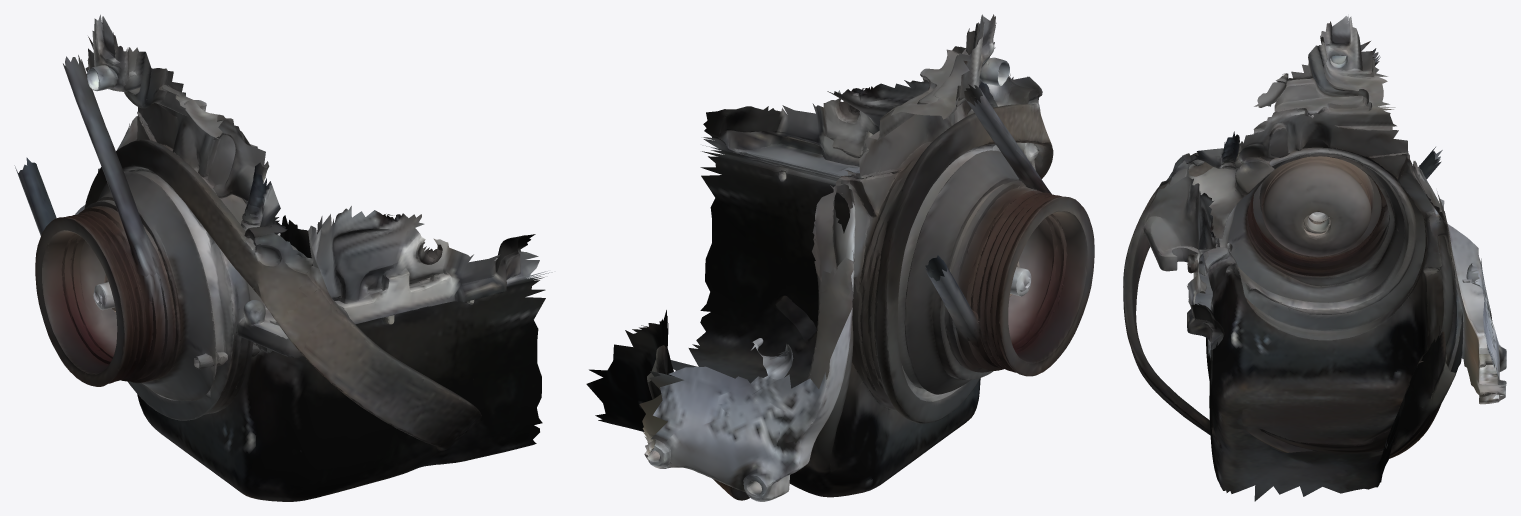
File: motor_12_piezas.glb
3 views of the same model, side by side, from view 1: azimuth 30°, elevation 25°; view 2: azimuth 150°, elevation 25°; view 3: azimuth 270°, elevation 25° (orthographic). The views are drawn at different scales.
Parts seen in each view (by area): view 1: pieza_02, pieza_08, pieza_07, pieza_11, pieza_05, pieza_12, pieza_03, pieza_10, pieza_06, pieza_09, pieza_01; view 2: pieza_04, pieza_09, pieza_07, pieza_02, pieza_06, pieza_12, pieza_10, pieza_05, pieza_01, pieza_03, pieza_11, pieza_08; view 3: pieza_03, pieza_12, pieza_01, pieza_04, pieza_06, pieza_09, pieza_02, pieza_05, pieza_08, pieza_11, pieza_10, pieza_07.
Part boxes in pixels (<box>): pieza_02: <box>303,329,542,499</box>; pieza_08: <box>228,218,433,430</box>; pieza_07: <box>355,210,552,400</box>; pieza_11: <box>172,125,361,308</box>; pieza_05: <box>86,278,282,413</box>; pieza_12: <box>63,14,234,186</box>; pieza_03: <box>128,381,309,501</box>; pieza_10: <box>43,167,186,312</box>; pieza_06: <box>34,215,117,383</box>; pieza_09: <box>14,107,149,232</box>; pieza_01: <box>276,215,312,265</box>; pieza_04: <box>639,310,881,501</box>; pieza_09: <box>779,166,964,399</box>; pieza_07: <box>700,83,906,233</box>; pieza_02: <box>670,207,818,388</box>; pieza_06: <box>871,254,1059,423</box>; pieza_12: <box>859,14,1022,203</box>; pieza_10: <box>922,140,1092,290</box>; pieza_05: <box>1008,226,1094,361</box>; pieza_01: <box>586,319,749,500</box>; pieza_03: <box>869,378,980,490</box>; pieza_11: <box>897,74,1047,160</box>; pieza_08: <box>901,88,1053,178</box>; pieza_03: <box>1212,278,1395,430</box>; pieza_12: <box>1257,14,1407,163</box>; pieza_01: <box>1280,335,1457,496</box>; pieza_04: <box>1379,269,1506,412</box>; pieza_06: <box>1304,173,1419,321</box>; pieza_09: <box>1366,147,1482,297</box>; pieza_02: <box>1130,328,1299,501</box>; pieza_05: <box>1216,182,1315,322</box>; pieza_08: <box>1123,180,1236,329</box>; pieza_11: <box>1166,104,1293,224</box>; pieza_10: <box>1252,148,1378,231</box>; pieza_07: <box>1124,209,1224,394</box>.
Size of the model in its own units: 0.8331 by 0.9444 by 0.8754.
1 material, 1 textured.
